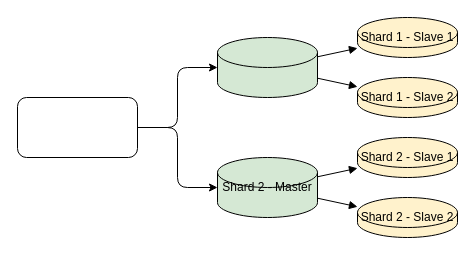
Image size: 475x255. Some labels were removed from this diagram. Here are the shapes that lost their labels. From the top down, the centre of each, then its label:
At pixel 267 67: "Shard 1 - Master".
At pixel 77 127: "pymongo-api".
